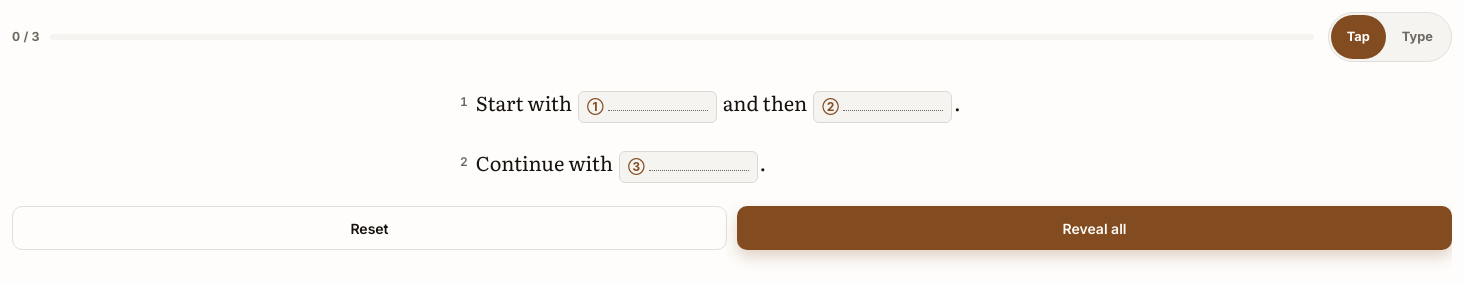
Test: ClozeTrainer › tapping a revealed blank hides it again
Click the button with test id "cloze-blank" showing "①": (647, 107) [578,91,717,123]
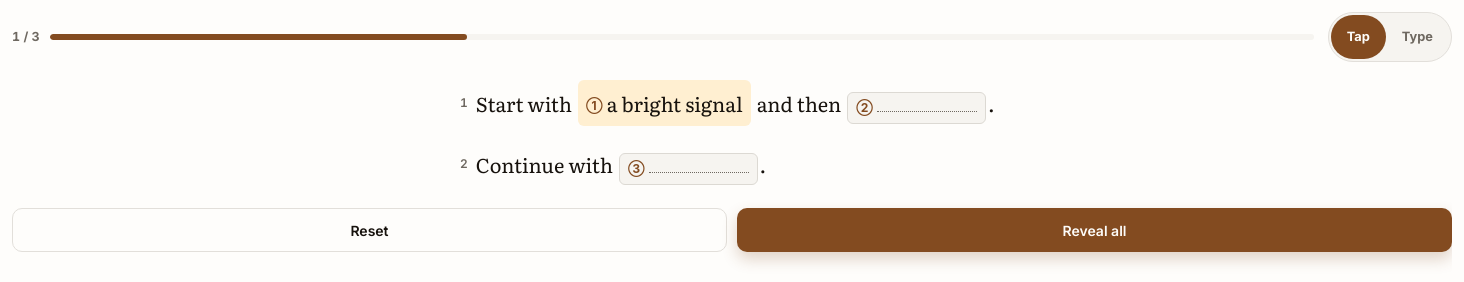
Expected: the text "1 / 3" is shown, [12,28,40,46]
Click the button with test id "cloze-filled": (664, 103) [578,80,751,126]
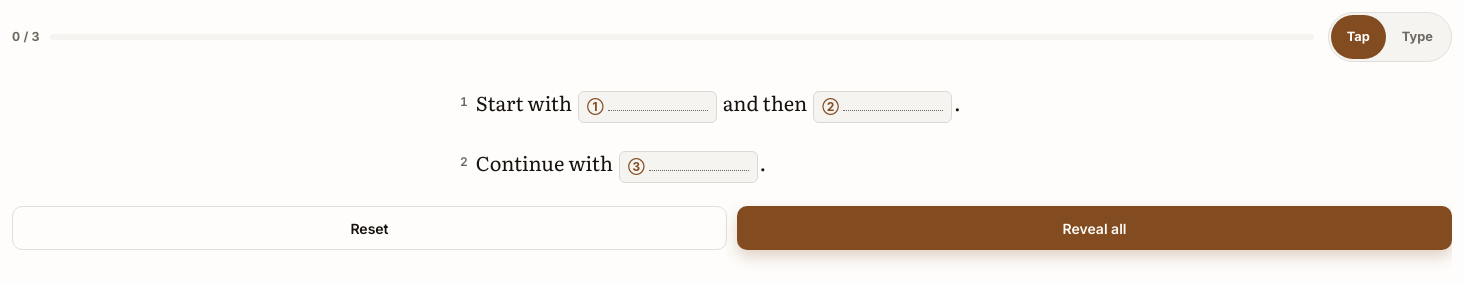
Expected: the text "0 / 3" is shown, [12,28,40,46]
Expected: the text "a bright signal" is gone
Expected: the number of buttons with test id "cloze-blank" is 3, [578,91,717,123]; [813,91,952,123]; [619,151,758,183]
